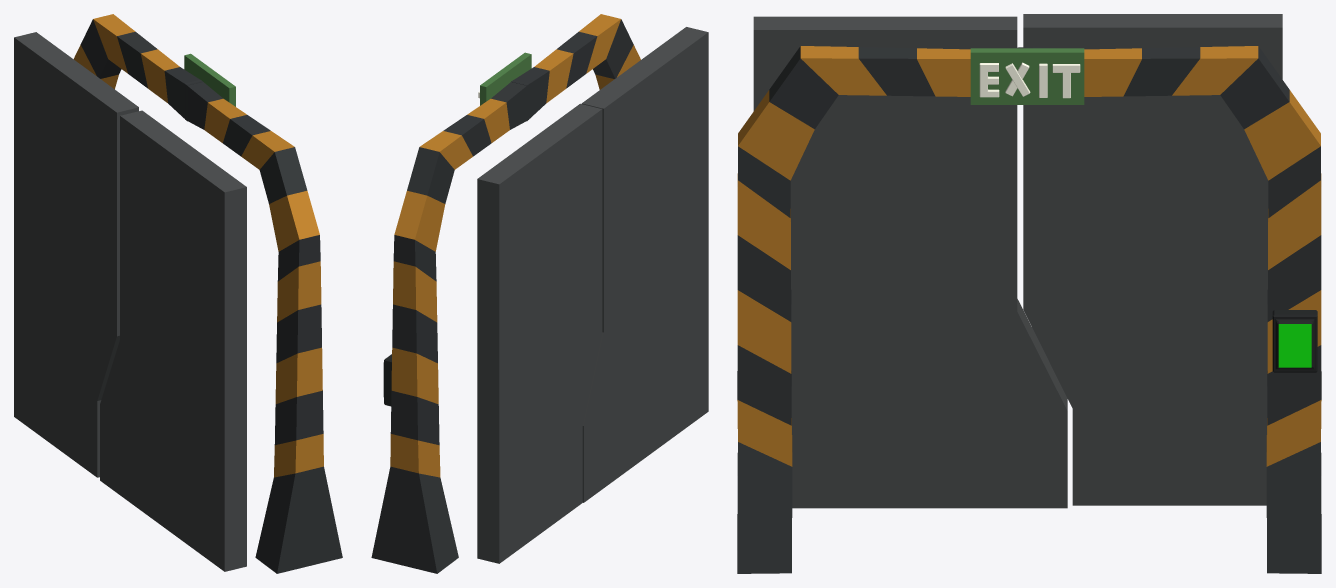
Rendered from main door.fbx.
3 views of the same model, side by side, from view 1: azimuth 30°, elevation 25°; view 2: azimuth 150°, elevation 25°; view 3: azimuth 270°, elevation 25° (orthographic). The views are drawn at different scales.
Visible parts, largest first — view 1: Cube.001, Cube.002, Cube, Plane.004; view 2: Cube.002, Cube.001, Cube, Plane.004, Schitivatel; view 3: Cube.001, Cube.002, Cube, Plane.004, Schitivatel.
Part boxes in pixels (x1,y1,x2,y2): Cube.001: (100, 110, 246, 571); Cube.002: (14, 32, 138, 477); Cube: (74, 14, 342, 573); Plane.004: (184, 53, 235, 106); Cube.002: (477, 103, 602, 563); Cube.001: (581, 27, 708, 502); Cube: (371, 14, 640, 573); Plane.004: (478, 52, 531, 105); Schitivatel: (383, 354, 391, 406); Cube.001: (753, 16, 1067, 508); Cube.002: (1023, 14, 1282, 505); Cube: (737, 46, 1321, 573); Plane.004: (970, 48, 1084, 104); Schitivatel: (1272, 310, 1317, 372).
Size of the model in its own units: 84.39 by 292 by 301.
